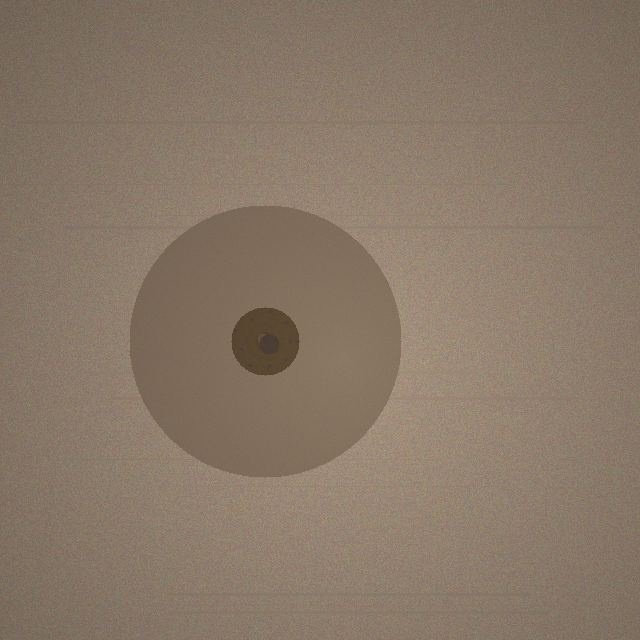cold_weld: (129, 205, 401, 477)
